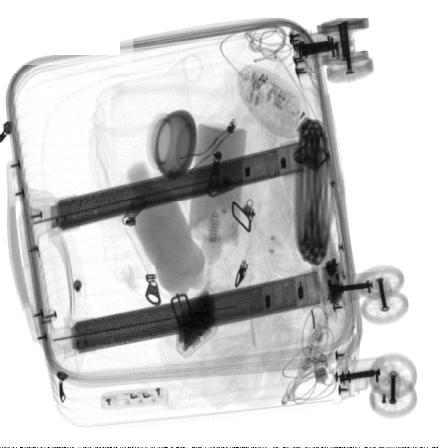Powerbank: (176, 286, 217, 359)
